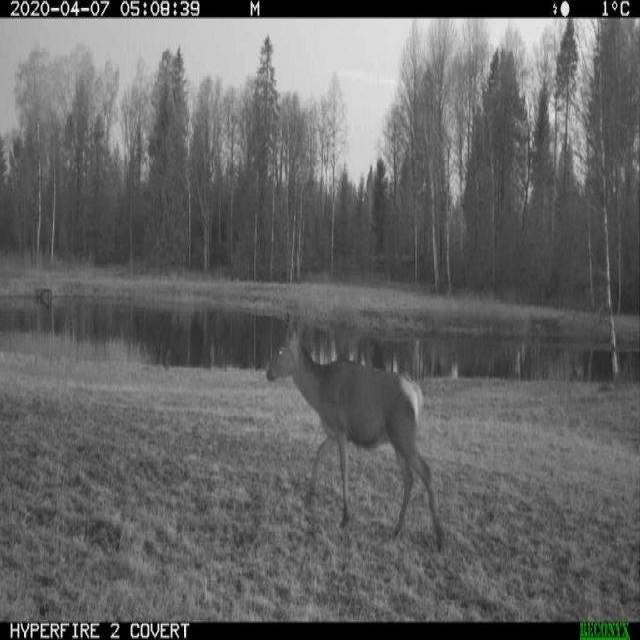deer: (257, 306, 437, 554)
